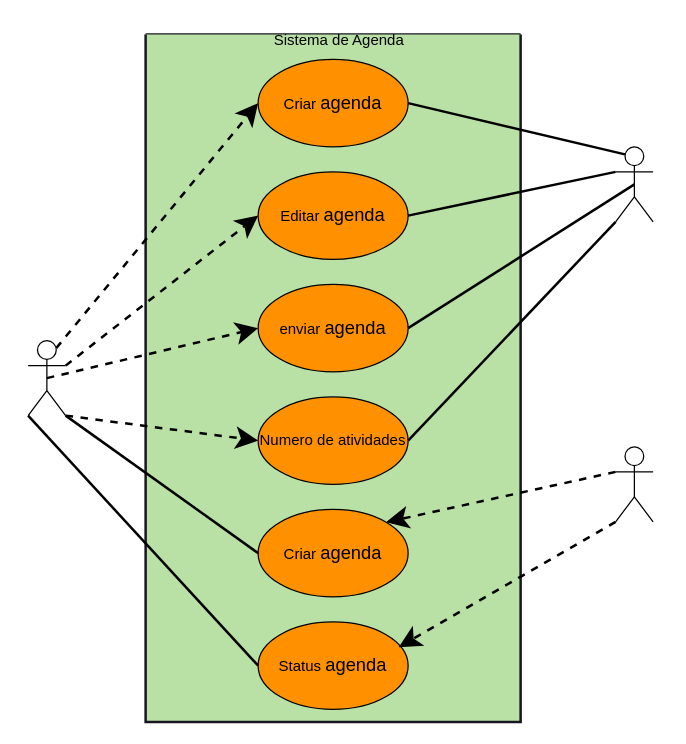
Some shapes in this 686 by 744 pixel diagram are drawn without their labels. The shapes that lost their labels are listed below. From the top down, each one's box as (x1, y1, x2, y2) in pixels, then its label:
(614, 146, 653, 222): agenda
(27, 339, 66, 416): Usuário
(614, 446, 653, 522): Sistem
